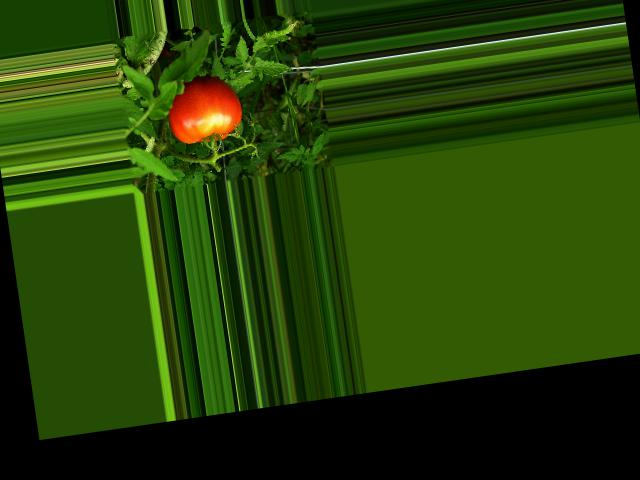tomato: (164, 72, 245, 147)
